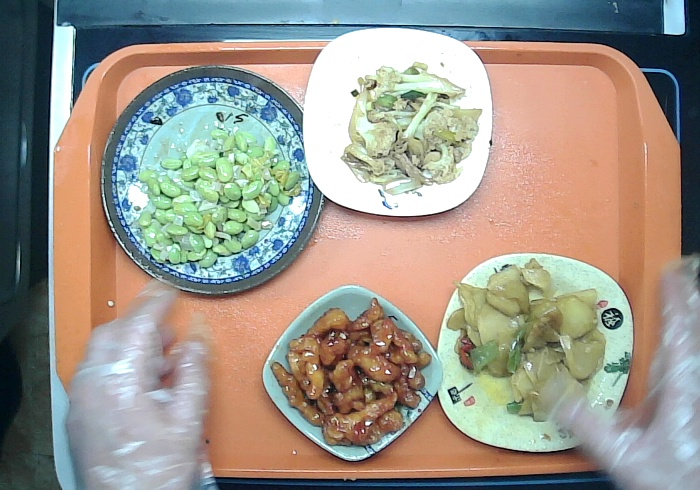NLDX-Bai_Se_Xiao_Fang_Die: (295, 20, 504, 223)
NLDX-Fu_Zi_Fang_Die: (428, 248, 637, 464)
NLDX-Qing_Hua_Xiao_Fang_Die: (256, 281, 447, 466)
NLDX-Qing_Hua_Yuan_Die: (98, 60, 327, 297)
